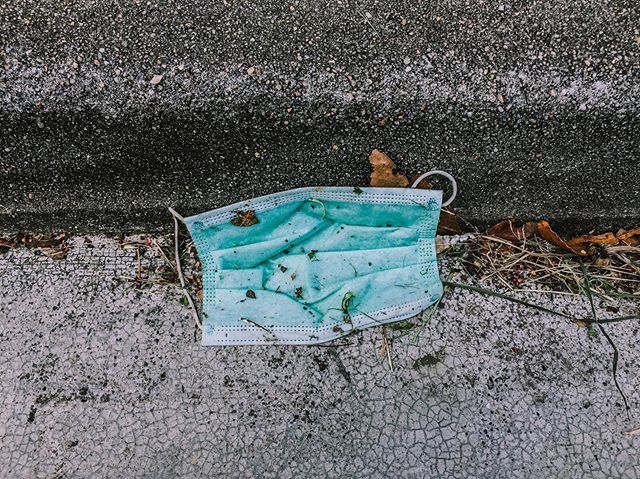trash: (117, 152, 502, 404)
